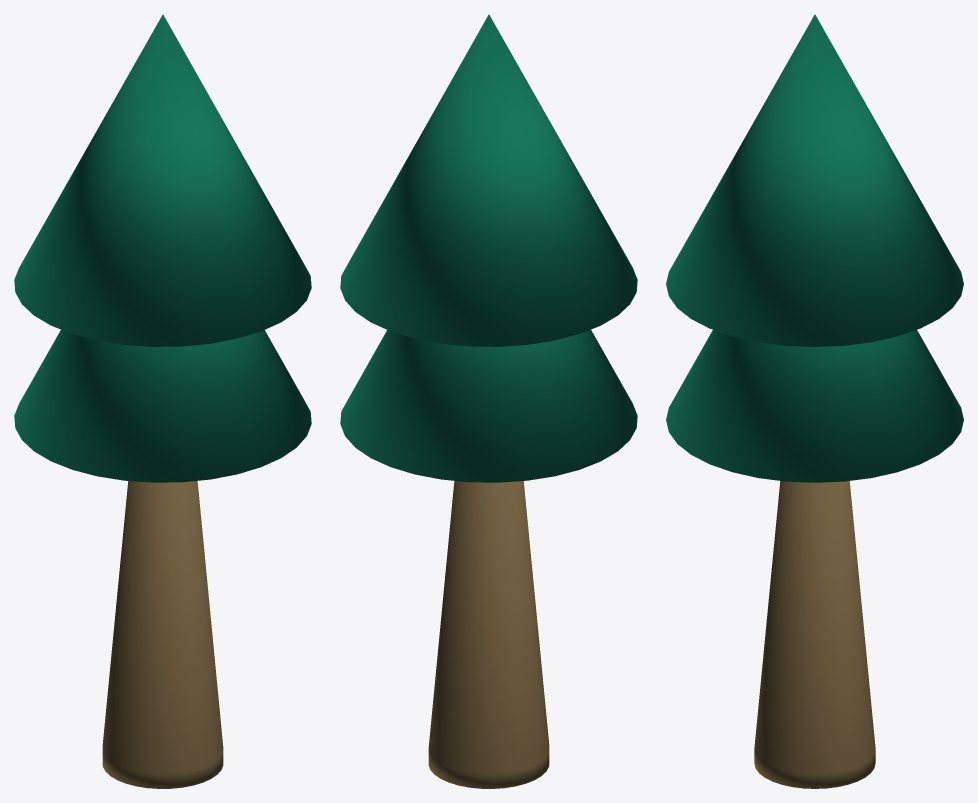
Rendered from tree.glb.
3 renders of one model, left to right at view 1: azimuth 30°, elevation 25°; view 2: azimuth 150°, elevation 25°; view 3: azimuth 270°, elevation 25°, orthographic.
Visible parts, largest first — view 1: Cylinder; view 2: Cylinder; view 3: Cylinder.
Part boxes in pixels (x1,y1,x2,y2): Cylinder: [14, 14, 311, 788]; Cylinder: [340, 14, 637, 788]; Cylinder: [666, 14, 963, 788].
Bounding box in the file's own units: 4.92 × 13.64 × 4.92.
